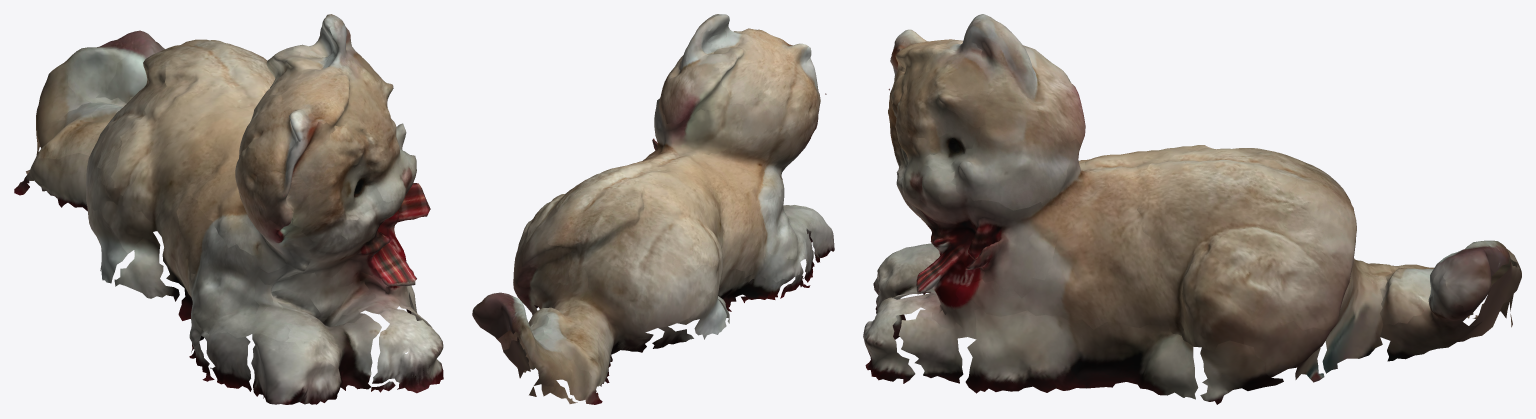
File: Dog_Plushie2.obj
3 views of the same model, side by side, from view 1: azimuth 30°, elevation 25°; view 2: azimuth 150°, elevation 25°; view 3: azimuth 270°, elevation 25° (orthographic). The views are drawn at different scales.
Visible parts, largest first — view 1: Object; view 2: Object; view 3: Object.
Part boxes in pixels (box(x1,y1,x2,y2)): Object: box(14, 14, 443, 404); Object: box(472, 14, 834, 404); Object: box(863, 14, 1521, 404).
Size of the model in its own units: 0.58 by 0.7315 by 1.3.
